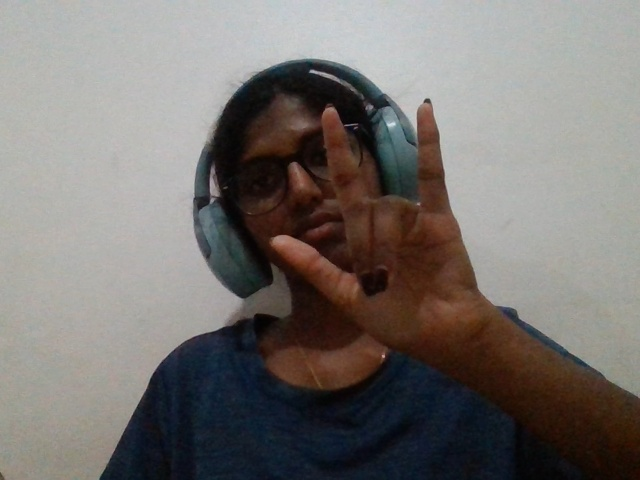I Love You: (236, 74, 552, 435)
